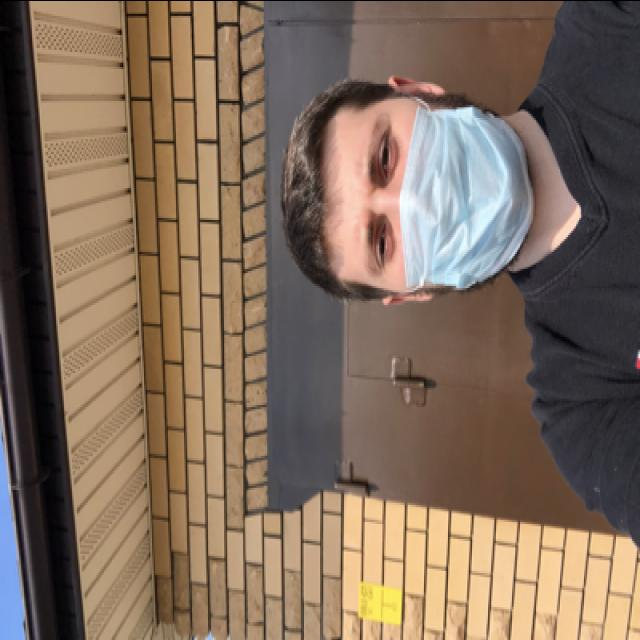with_mask: (342, 94, 536, 292)
